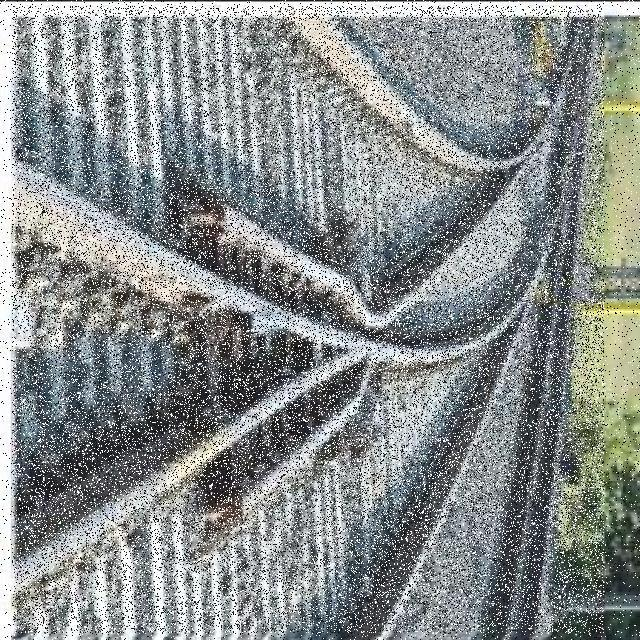rail: (12, 6, 604, 633)
